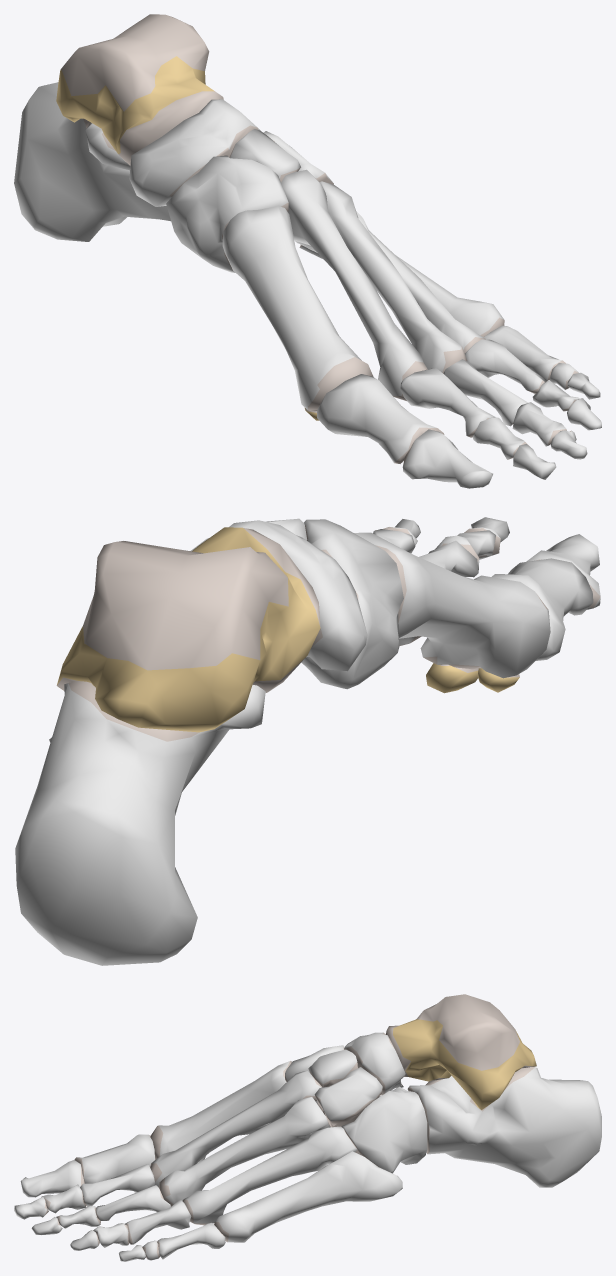
File: Foot_L.fbx
The picture shows the model from 3 angles, top to bottom: view 1: azimuth 30°, elevation 25°; view 2: azimuth 150°, elevation 25°; view 3: azimuth 270°, elevation 25°; orthographic projection. The views are drawn at different scales.
Parts seen in each view (by area): view 1: Intermediate cuneiform bone.l.001; view 2: Intermediate cuneiform bone.l.001; view 3: Intermediate cuneiform bone.l.001.
Part boxes in pixels (box(x1,y1,x2,y2)): Intermediate cuneiform bone.l.001: box(14, 14, 601, 488); Intermediate cuneiform bone.l.001: box(15, 517, 600, 965); Intermediate cuneiform bone.l.001: box(14, 994, 601, 1261).
Bounding box in the file's own units: 9.36 × 7.62 × 22.86.
